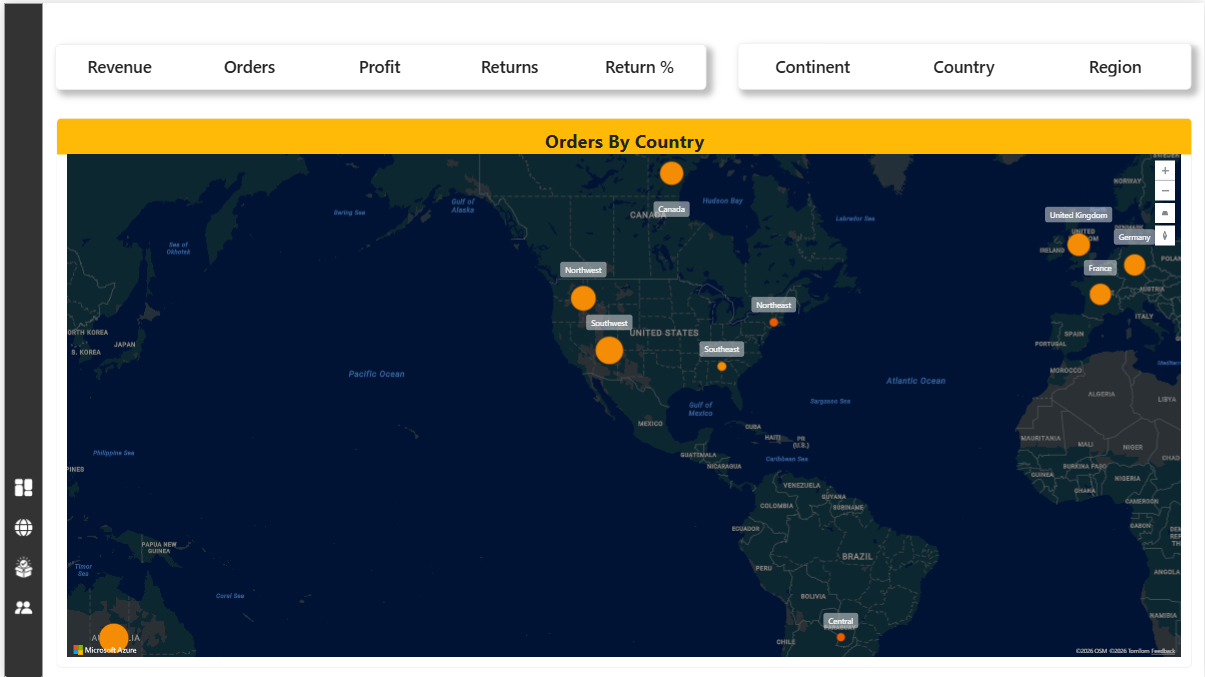

What the dashboard file says about the page in this screenshot:
{"tool":"powerbi","page":{"name":"Map","canvas":[1920,1080],"ordinal":1},"visuals":[{"type":"shape","box":[0,0,62.8,1079.1],"z":0},{"type":"group","id":"g1","title":"Close Nav Bar","box":[5.7,749.3,51.4,241.4],"z":1000},{"type":"actionButton","box":[5.7,749.3,51.4,50],"z":2000,"group":"g1"},{"type":"map","title":"Orders By Country","fields":{"Category":["Territory Lookup.Continent","Territory Lookup.Country","Territory Lookup.Region"],"Size":["_All Measures.Total Orders"]},"box":[83.2,184.6,1816.9,879.5],"z":3000},{"type":"actionButton","box":[5.7,813.1,51.4,50],"z":3000,"group":"g1"},{"type":"advancedSlicerVisual","fields":{"Values":["Location Parameter.Location Parameter"]},"box":[1173.4,63.2,725.5,74.7],"z":4000},{"type":"actionButton","box":[5.7,876.9,51.4,50],"z":4000,"group":"g1"},{"type":"advancedSlicerVisual","fields":{"Values":["Product Selection Metric.Product Selection Metric"]},"box":[82.3,65.1,1041.4,72.7],"z":5000},{"type":"actionButton","box":[5.7,940.7,51.4,50],"z":5000,"group":"g1"}]}

Visuals, with their boxes on the page's 1920x1080 design canvas (x1, y1, x2, y2). These are canvas units, not pixel positions in the 1205x677 screenshot, which may show the page scaled, cropped or inside an application window:
shape: [x1=0, y1=0, x2=63, y2=1079]
"Close Nav Bar" group: [x1=6, y1=749, x2=57, y2=991]
actionButton: [x1=6, y1=749, x2=57, y2=799]
"Orders By Country" map: [x1=83, y1=185, x2=1900, y2=1064]
actionButton: [x1=6, y1=813, x2=57, y2=863]
advancedSlicerVisual - Location Parameter.Location Parameter: [x1=1173, y1=63, x2=1899, y2=138]
actionButton: [x1=6, y1=877, x2=57, y2=927]
advancedSlicerVisual - Product Selection Metric.Product Selection Metric: [x1=82, y1=65, x2=1124, y2=138]
actionButton: [x1=6, y1=941, x2=57, y2=991]
